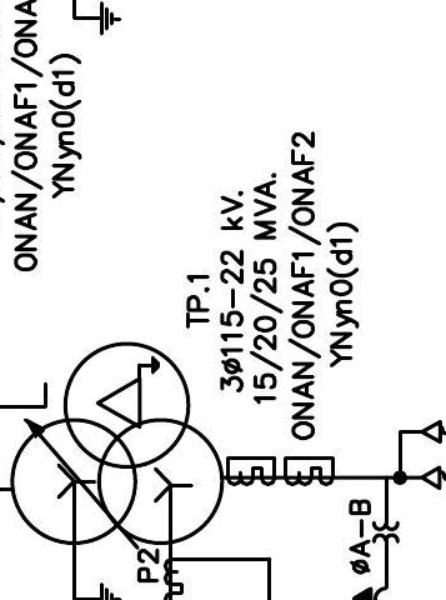11522_tx_ynyn0d1: (9, 340, 226, 546)
terminator_double: (397, 419, 443, 491)
